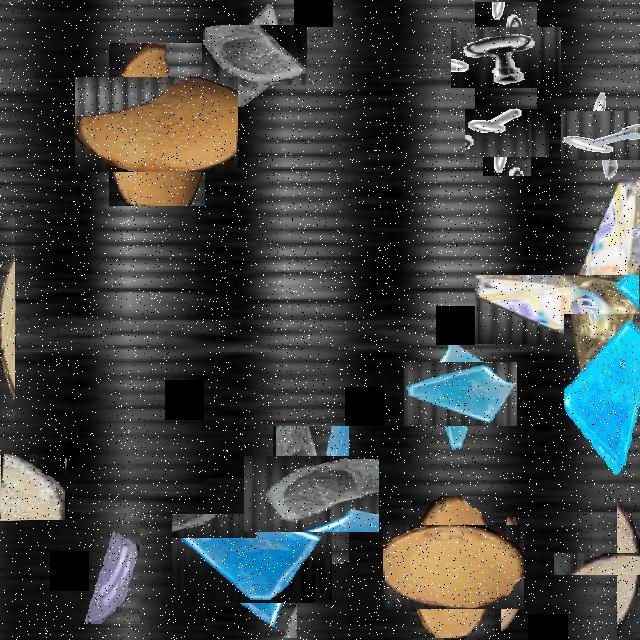glass: (190, 496, 314, 620), (564, 314, 640, 474), (258, 441, 364, 547), (416, 350, 504, 439), (212, 13, 296, 97), (82, 524, 140, 628)
metal: (463, 14, 549, 100), (571, 100, 640, 169), (474, 100, 540, 167)
plastic: (522, 227, 640, 391)
wood: (92, 60, 222, 189), (396, 511, 509, 624), (585, 520, 640, 606), (1, 454, 66, 520), (0, 217, 15, 427), (501, 518, 523, 638)
